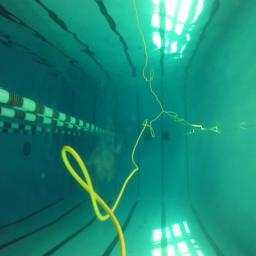Full: (162, 137, 170, 141), (144, 137, 152, 141)
